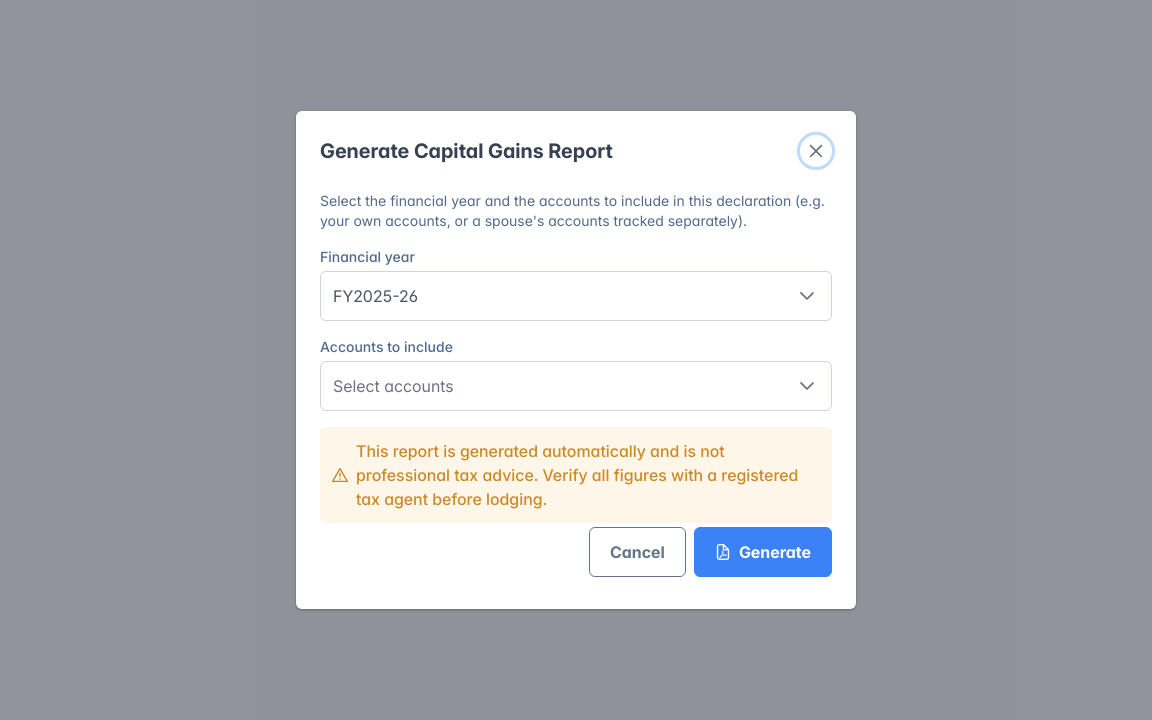
Test: GenerateReportDialog › shows a validation error when no accounts are selected
Click the button "Generate".
click(763, 552)  # box x1=694 y1=527 x2=832 y2=577
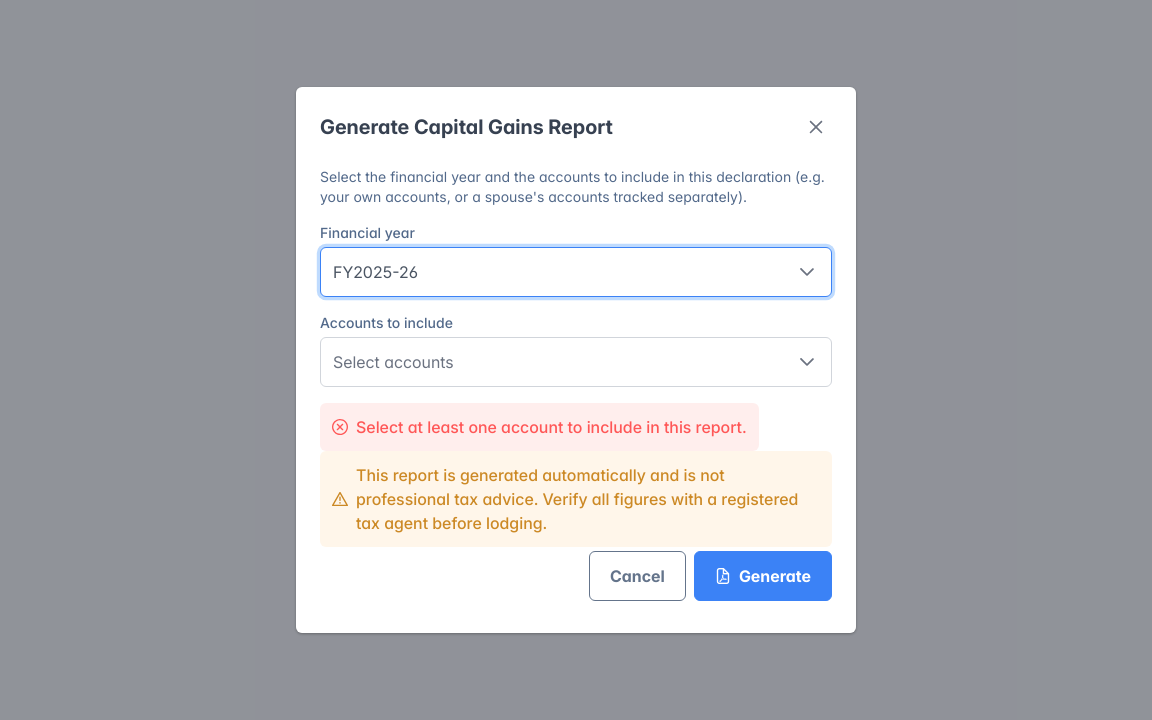
Expected: the text "Select at least one account to include in this report." is shown, x1=356 y1=415 x2=747 y2=439
